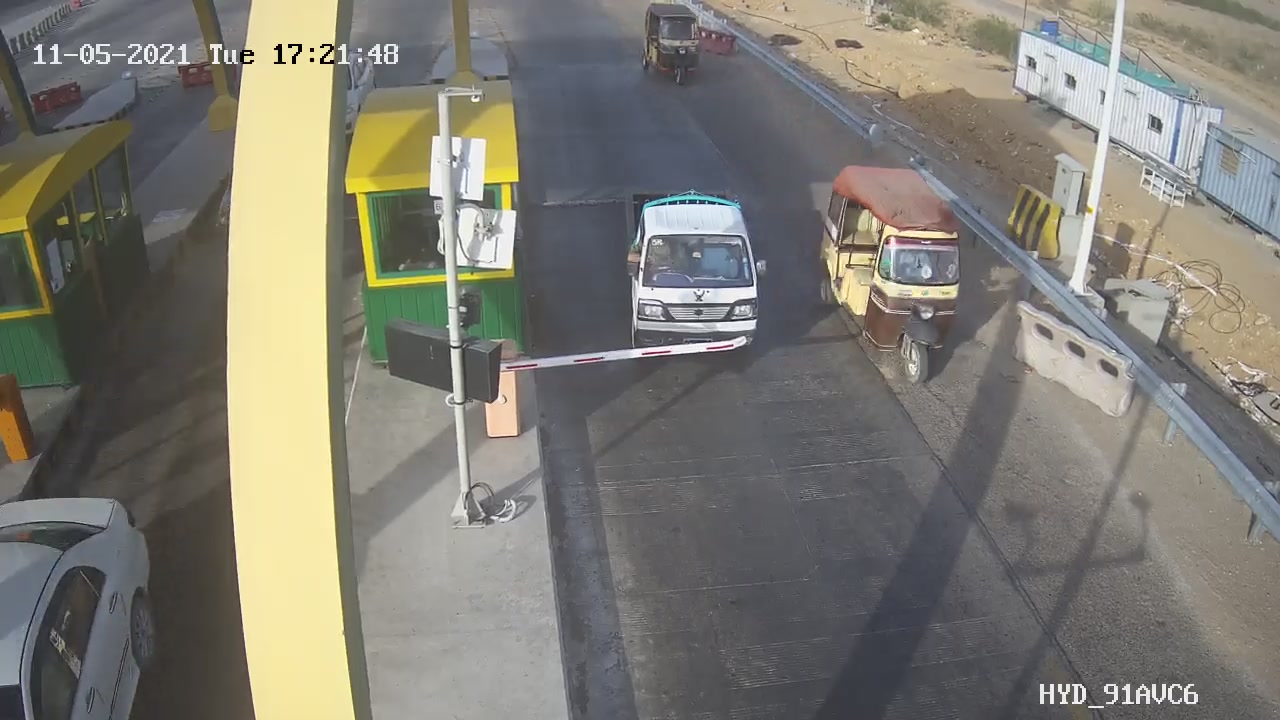F1: (603, 168, 789, 374)
